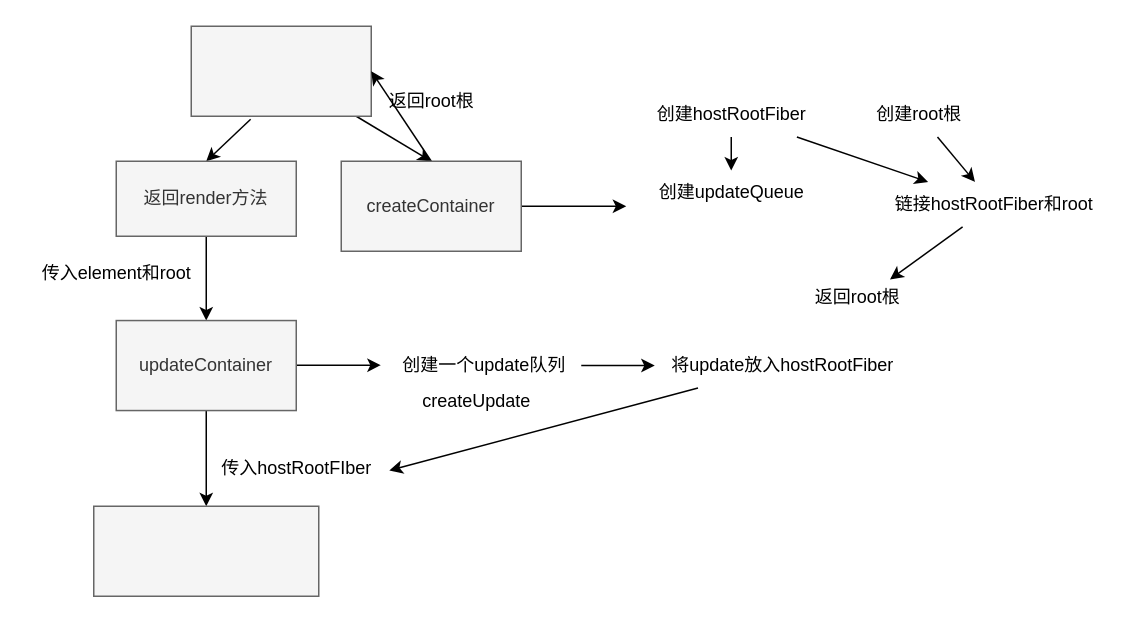
Image size: 1139x623. Some labels were removed from this diagram. Here are the shapes that lost their labels. From the top down, the centre of each, then its label:
At point 280,70: "createRoot".
At point 205,550: "scheduleUpdateOnFiber".
